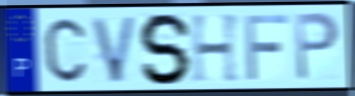C: (42, 16, 88, 84)
F: (243, 12, 290, 83)
H: (189, 11, 243, 85)
P: (293, 10, 342, 83)
S: (138, 11, 195, 87)
V: (89, 13, 140, 85)
